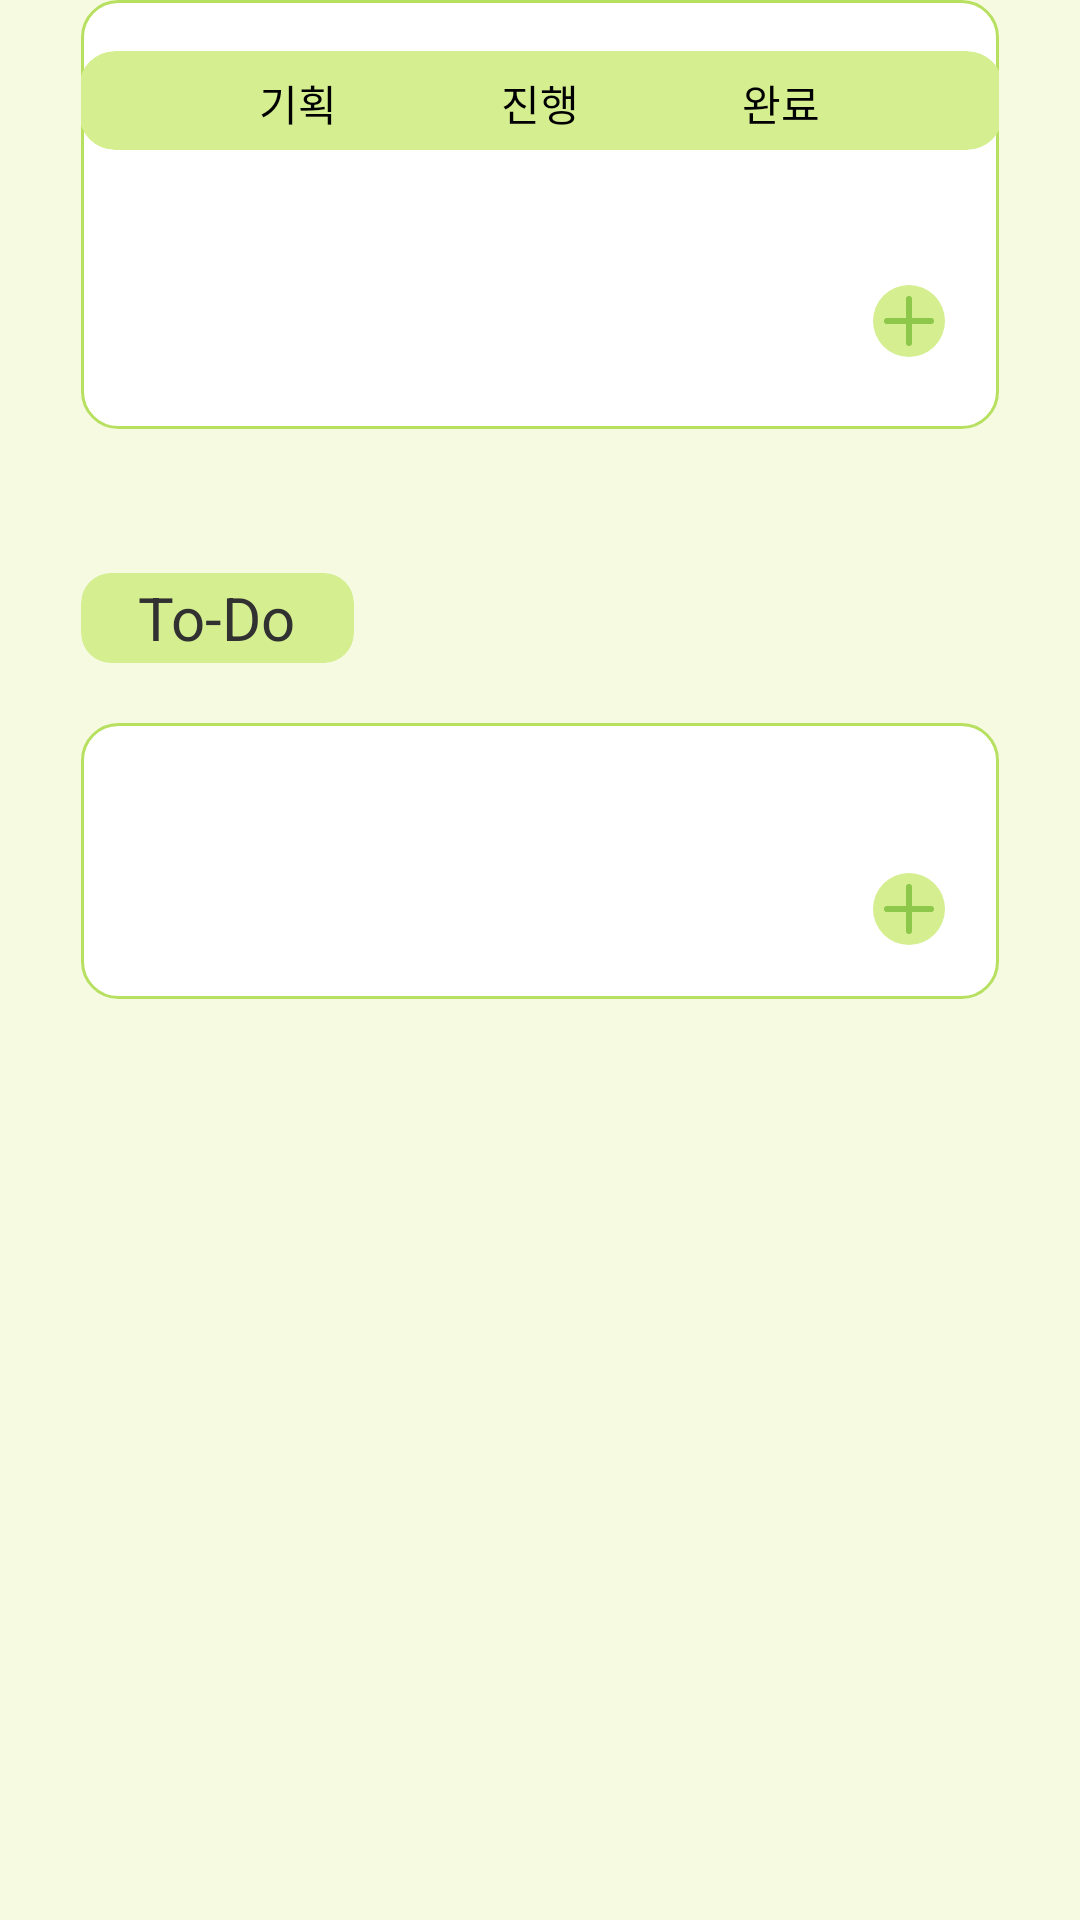

Where to tap for icons on this 1080w x 1920h app screen, as point (x, y):
statistics add: point (909, 321), point (909, 909)
